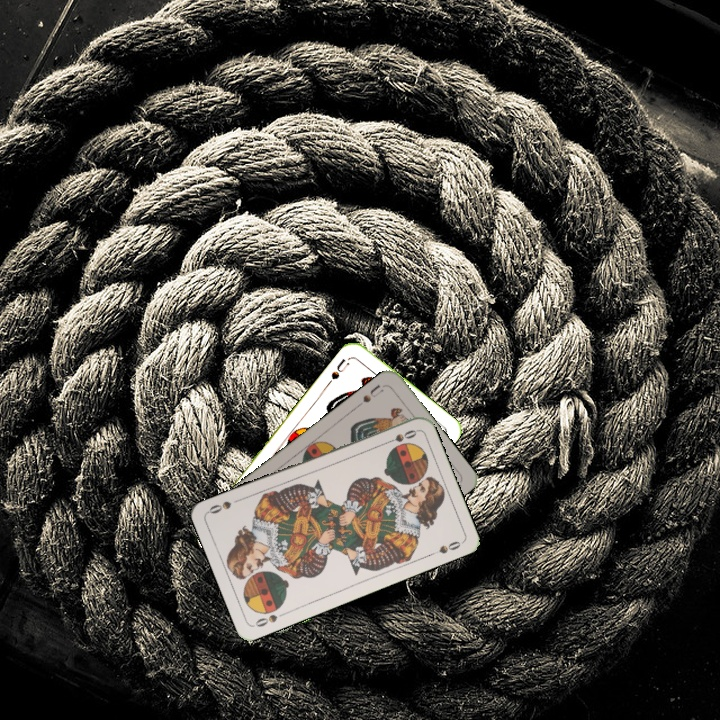SO: (250, 608, 289, 630), (380, 426, 419, 447)
SU: (353, 381, 386, 410), (327, 355, 351, 382)
